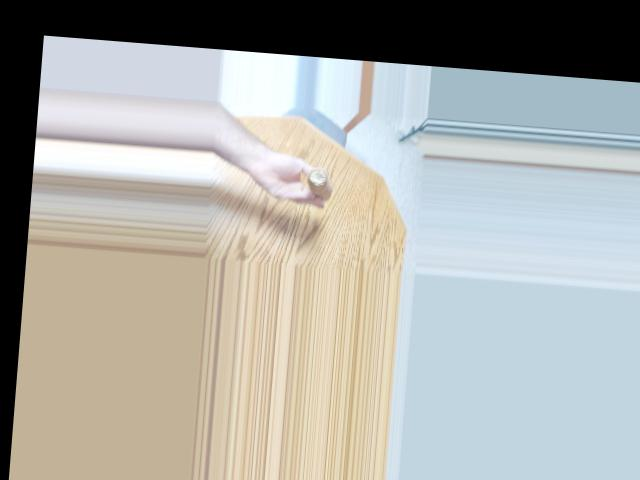sweet_potato: (297, 161, 338, 203)
